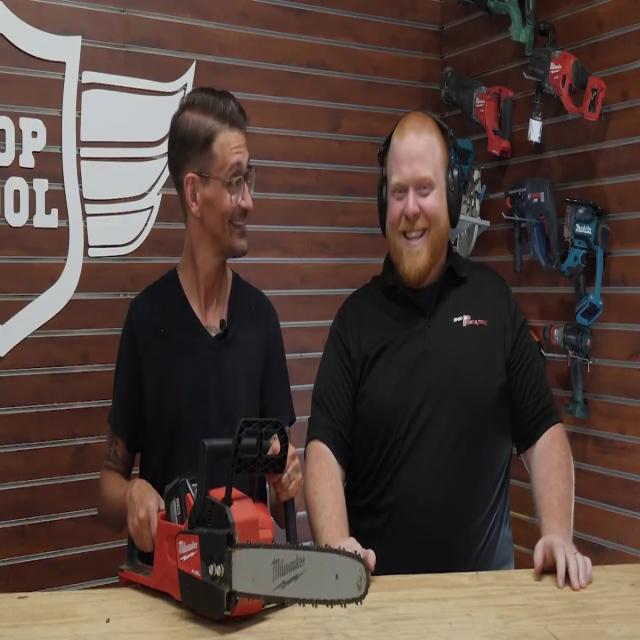earmuff: (444, 156, 465, 234), (376, 171, 390, 236)
glasses: (188, 156, 257, 208)
